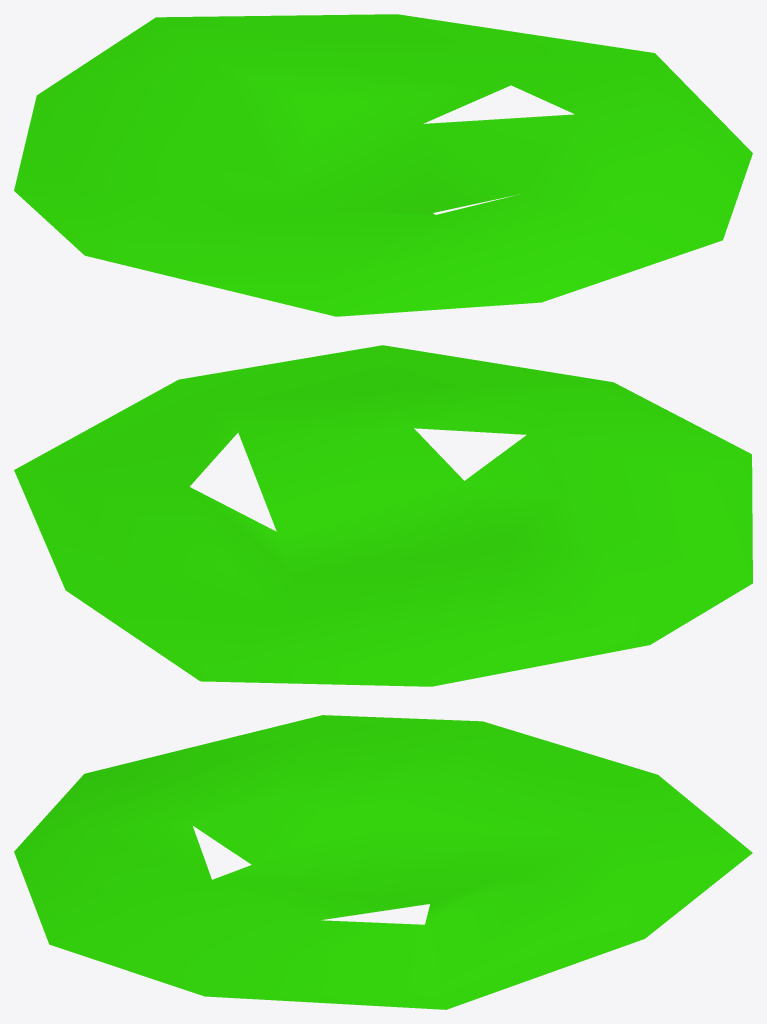
File: Floor_Break_03_Collider.fbx
3 renders of one model, top to bottom at view 1: azimuth 30°, elevation 25°; view 2: azimuth 150°, elevation 25°; view 3: azimuth 270°, elevation 25°, orthographic. The views are drawn at different scales.
Parts seen in each view (by area): view 1: Floor_Break_03_Collider; view 2: Floor_Break_03_Collider; view 3: Floor_Break_03_Collider.
Part boxes in pixels (left/top/right/bottom): Floor_Break_03_Collider: left=14, top=14, right=752, bottom=316; Floor_Break_03_Collider: left=14, top=345, right=752, bottom=686; Floor_Break_03_Collider: left=14, top=715, right=752, bottom=1009.
Size of the model in its own units: 519 by 22.49 by 550.
